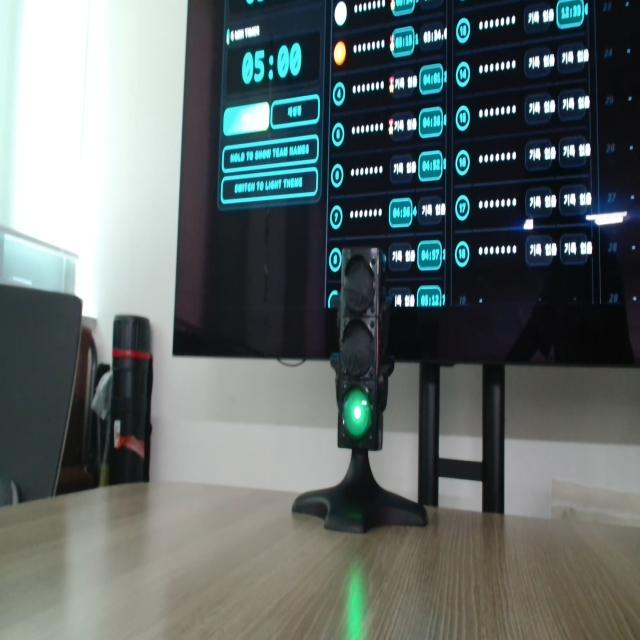green_light: (343, 388, 371, 439)
